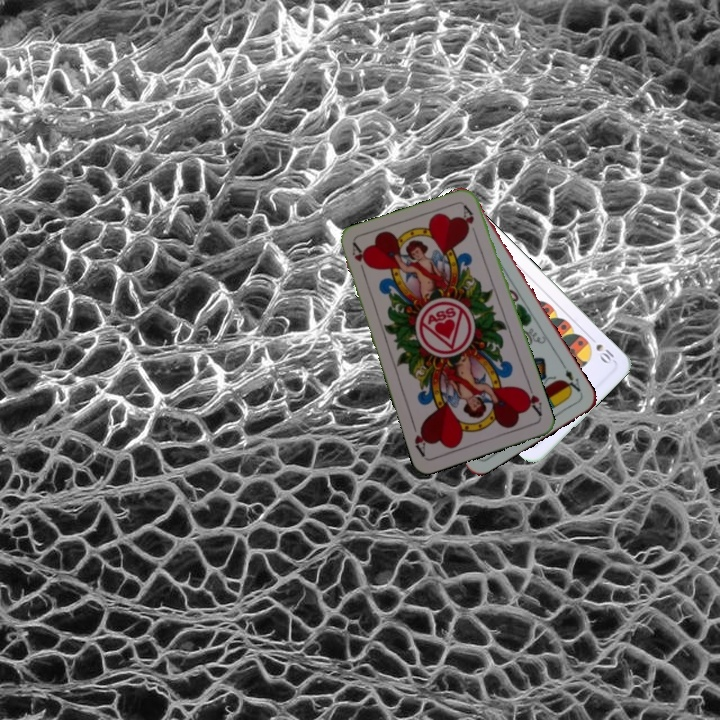EA: (560, 366, 585, 397)
HA: (518, 380, 545, 419), (348, 240, 371, 280)
S10: (585, 332, 617, 367)
